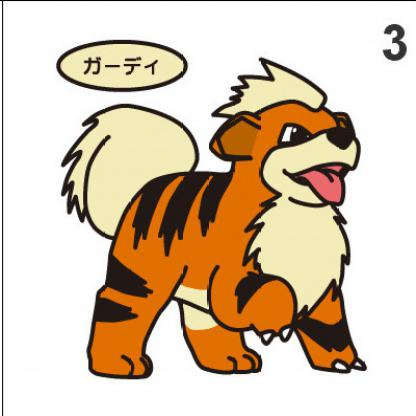Growlithe: (52, 88, 380, 379)
